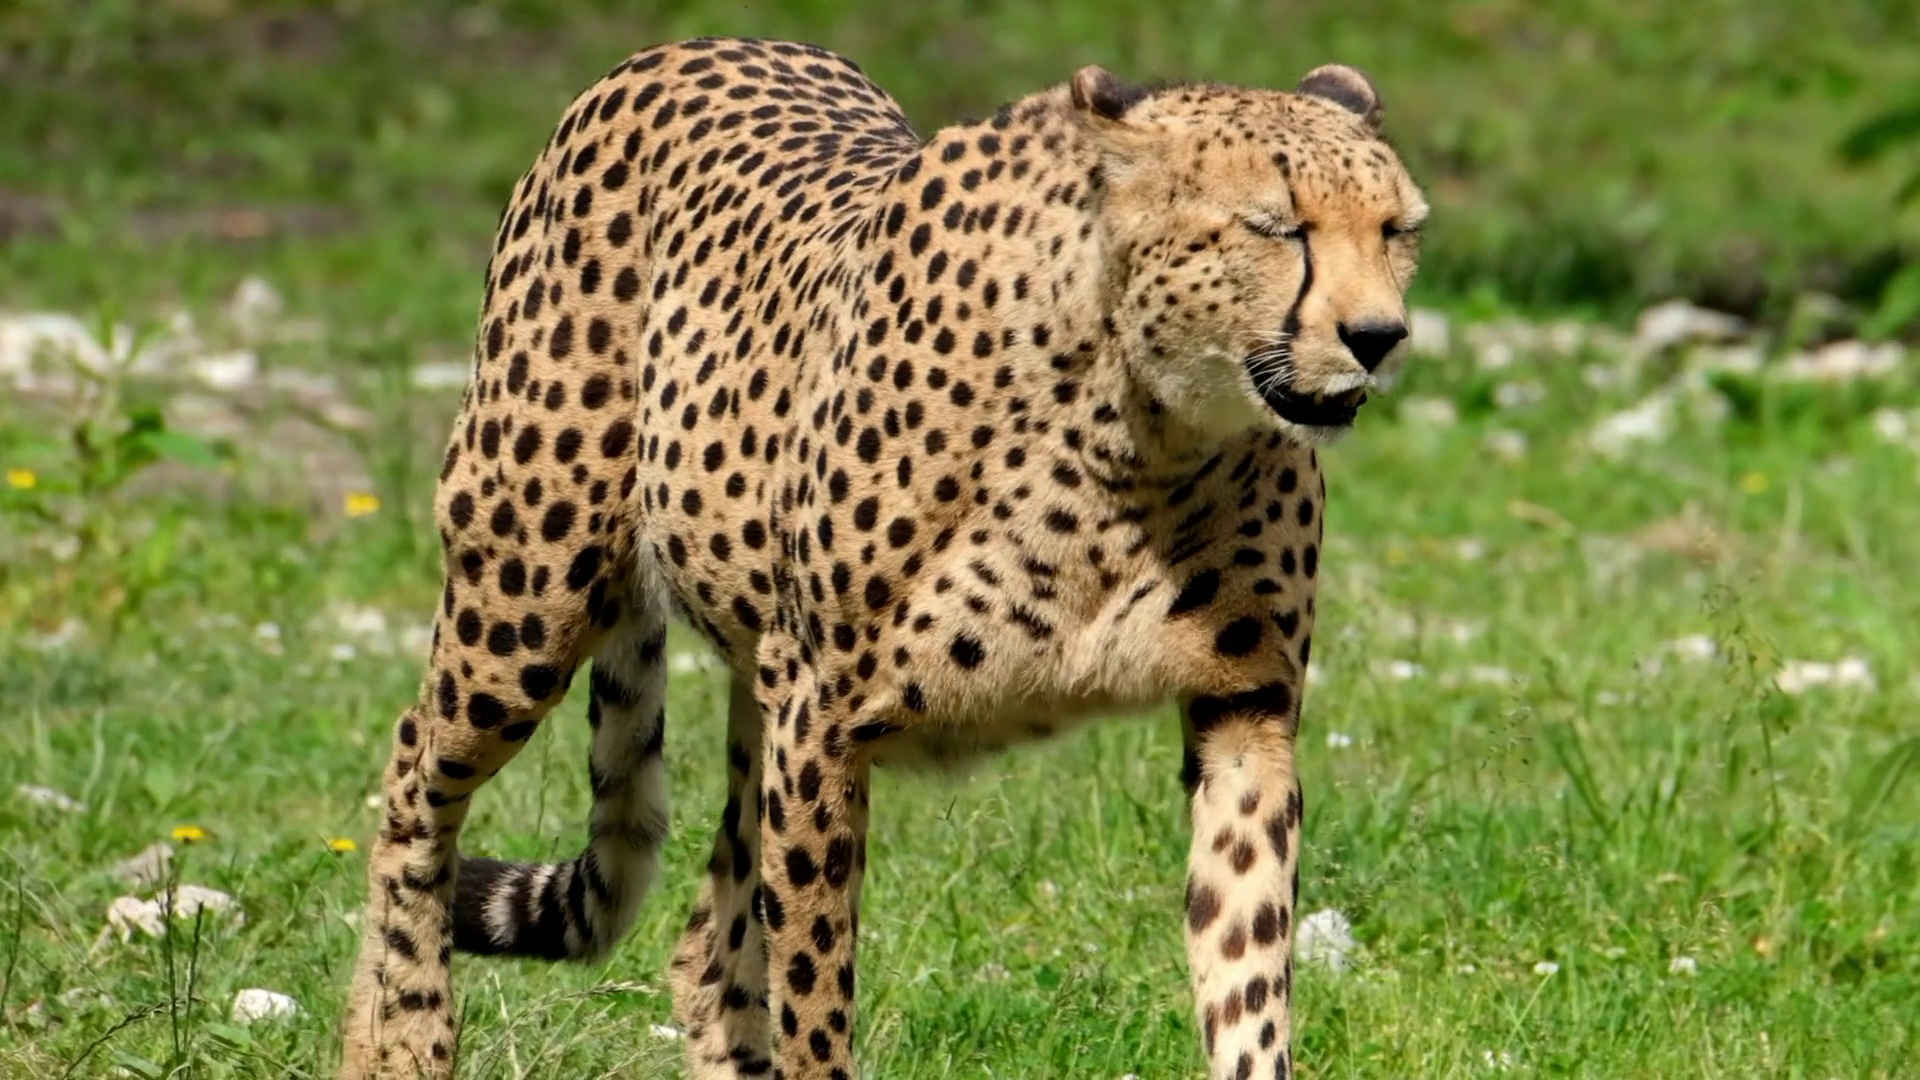Cheetah: (334, 29, 1436, 1080)
